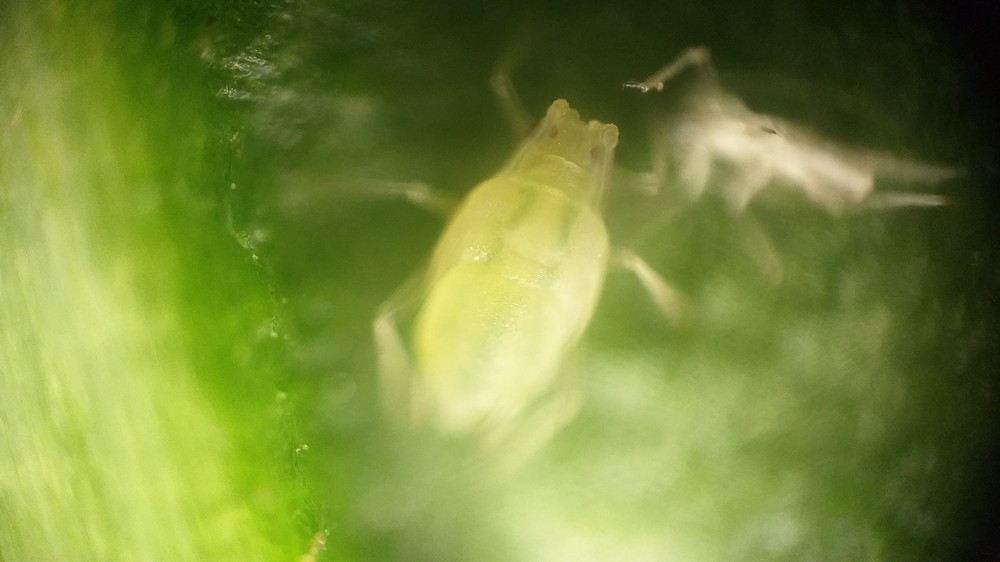Pulgon: (360, 56, 694, 490)
